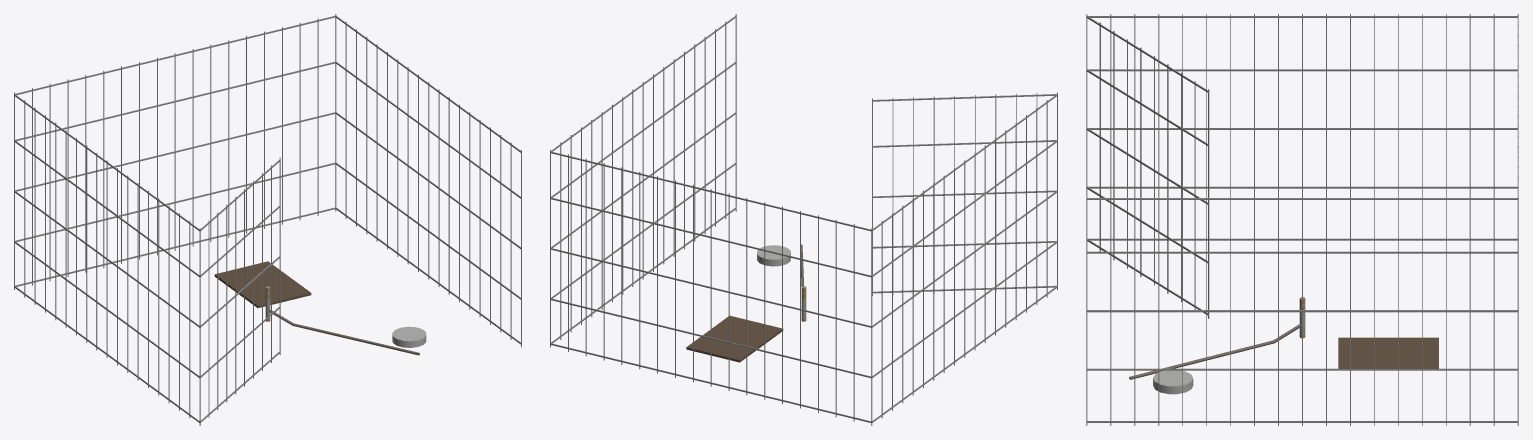
Rendered from dog_pen_wire.glb.
The picture shows the model from 3 angles, left to right: view 1: azimuth 30°, elevation 25°; view 2: azimuth 150°, elevation 25°; view 3: azimuth 270°, elevation 25°; orthographic projection. The views are drawn at different scales.
Parts seen in each view (by area): view 1: dog_pen_wire; view 2: dog_pen_wire; view 3: dog_pen_wire.
Boxes of the visible parts, x1,y1,x2,y2 form: dog_pen_wire: [14, 14, 521, 425]; dog_pen_wire: [550, 14, 1057, 425]; dog_pen_wire: [1086, 14, 1518, 425].
Size of the model in its own units: 3.01 by 1.78 by 3.01.
5 materials, 1 textured.
